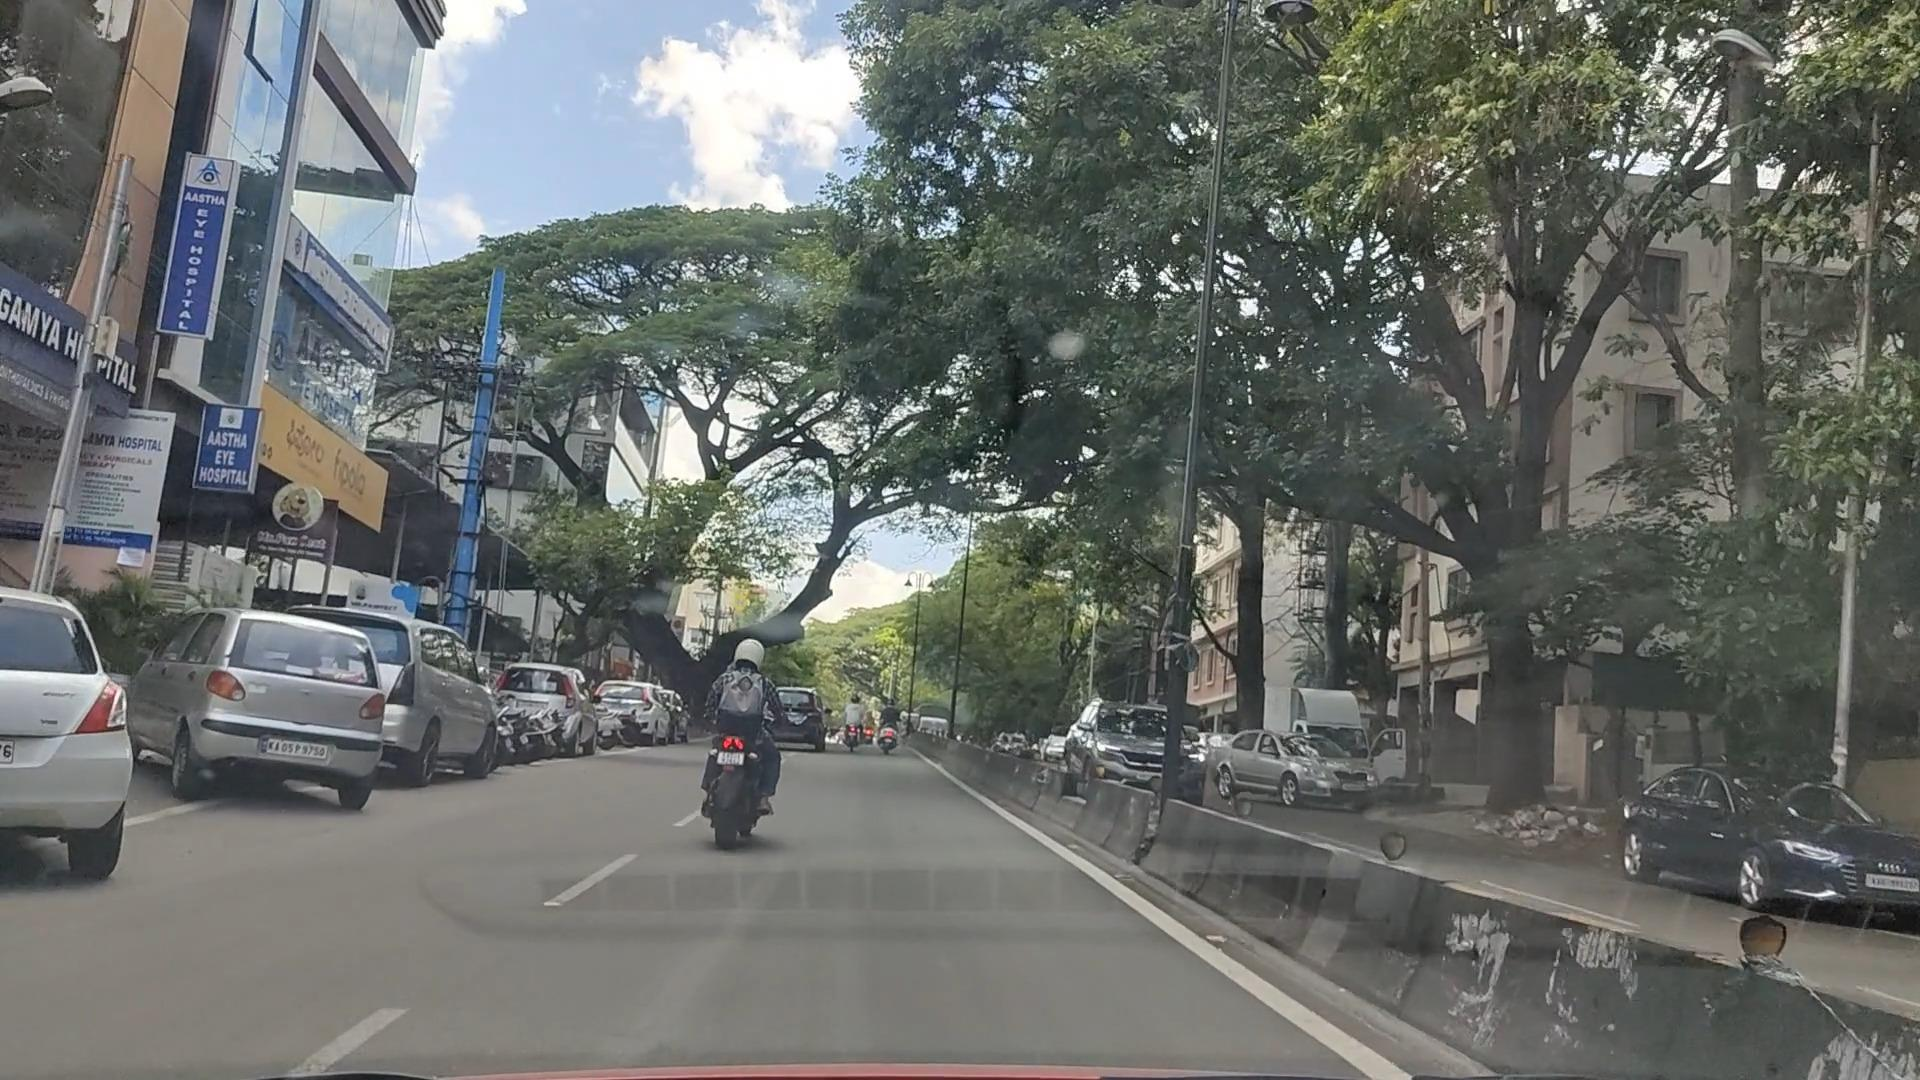LMV: (142, 600, 389, 808), (723, 638, 790, 862)
